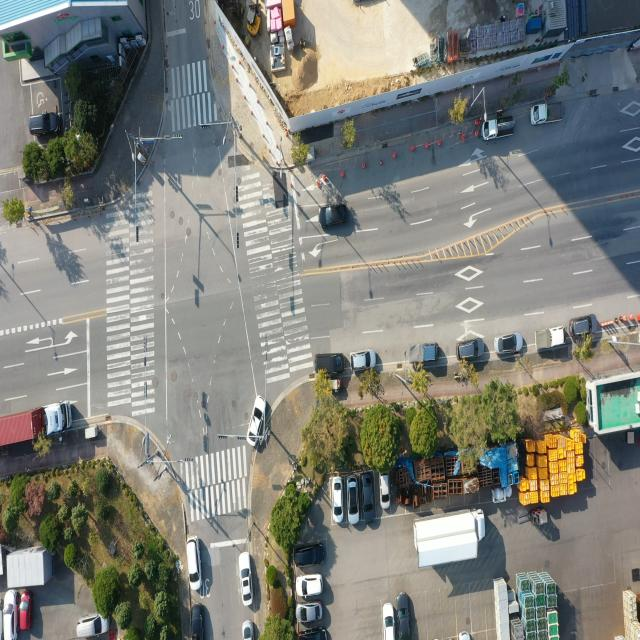car: (247, 395, 266, 446), (77, 610, 106, 640), (2, 590, 18, 640), (26, 114, 59, 138), (314, 351, 345, 376), (186, 538, 200, 593), (318, 206, 350, 229), (297, 545, 326, 570), (495, 333, 524, 358), (570, 314, 598, 338), (238, 552, 250, 606), (457, 338, 484, 362), (350, 349, 378, 372), (355, 354, 383, 377), (361, 475, 374, 523), (400, 595, 413, 640), (298, 574, 324, 596), (348, 478, 360, 524), (18, 593, 31, 633), (334, 476, 345, 523), (299, 603, 324, 623), (193, 603, 206, 640), (382, 604, 394, 640), (303, 627, 330, 640), (380, 475, 390, 510), (241, 621, 252, 640), (458, 631, 471, 640)
large_truck: (0, 402, 71, 449)
medium_truck: (410, 512, 484, 570)
small_truck: (535, 325, 568, 352), (407, 342, 440, 366), (530, 102, 563, 125), (484, 119, 514, 141)
